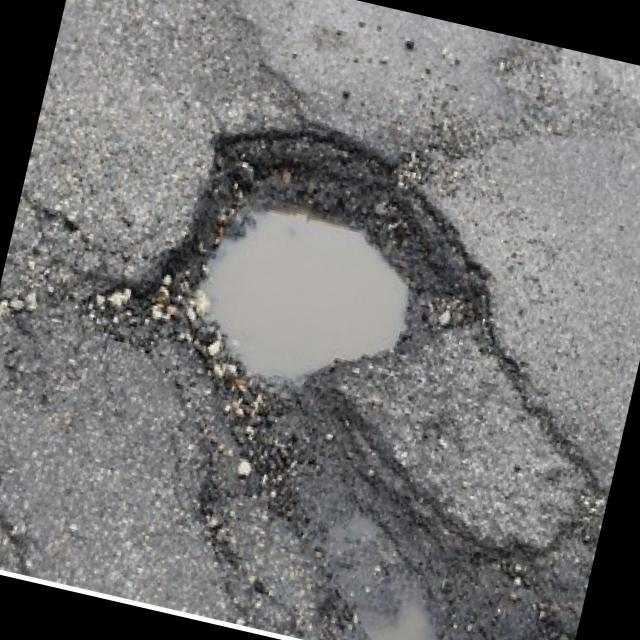Pothole: (122, 94, 514, 444)
